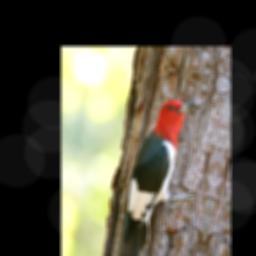Woodpecker: (118, 88, 212, 256)
